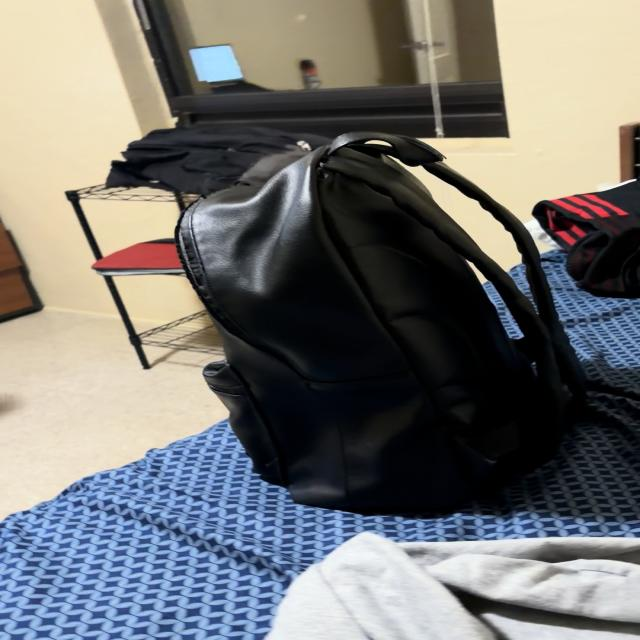backpack: (177, 132, 582, 512)
